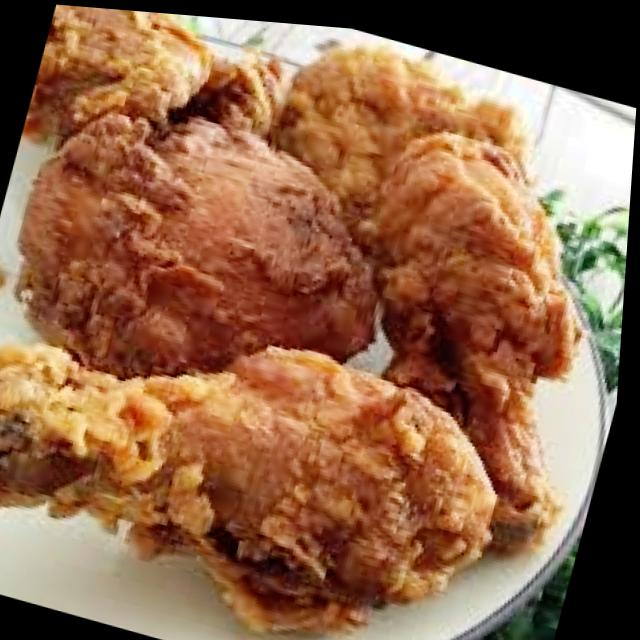fried_chicken: (0, 264, 526, 640), (5, 2, 551, 311), (300, 110, 634, 562), (0, 79, 422, 434)
